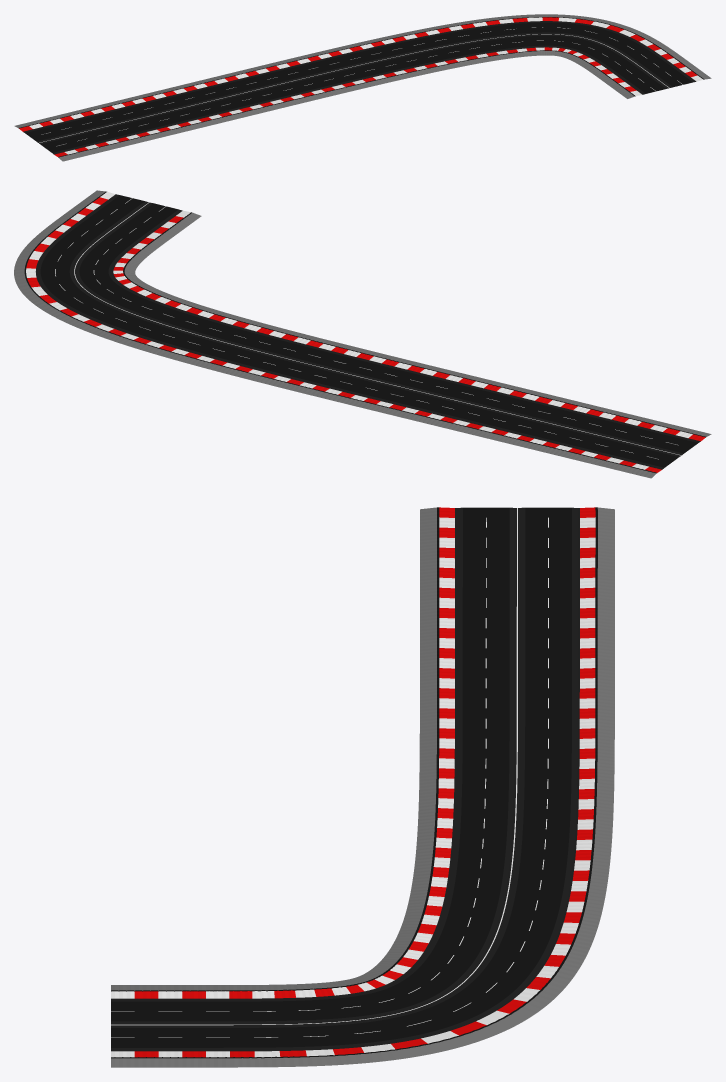
3 renders of one model, top to bottom at view 1: azimuth 30°, elevation 25°; view 2: azimuth 150°, elevation 25°; view 3: azimuth 270°, elevation 25°, orthographic. The views are drawn at different scales.
Parts seen in each view (by area): view 1: Grid; view 2: Grid; view 3: Grid.
Boxes of the visible parts, x1=… form: Grid: x1=14, y1=14, x2=711, y2=161; Grid: x1=14, y1=190, x2=711, y2=478; Grid: x1=111, y1=507, x2=614, y2=1067.
Size of the model in its own units: 169 by 0.31 by 64.6.
